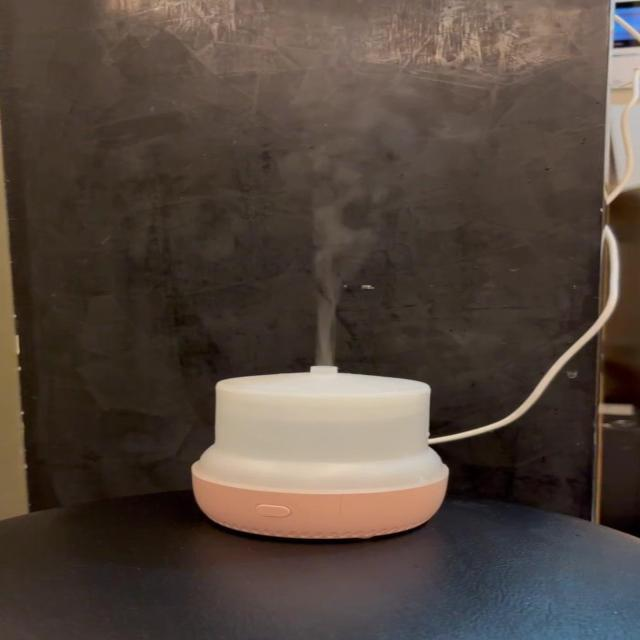fire: (278, 64, 466, 365)
